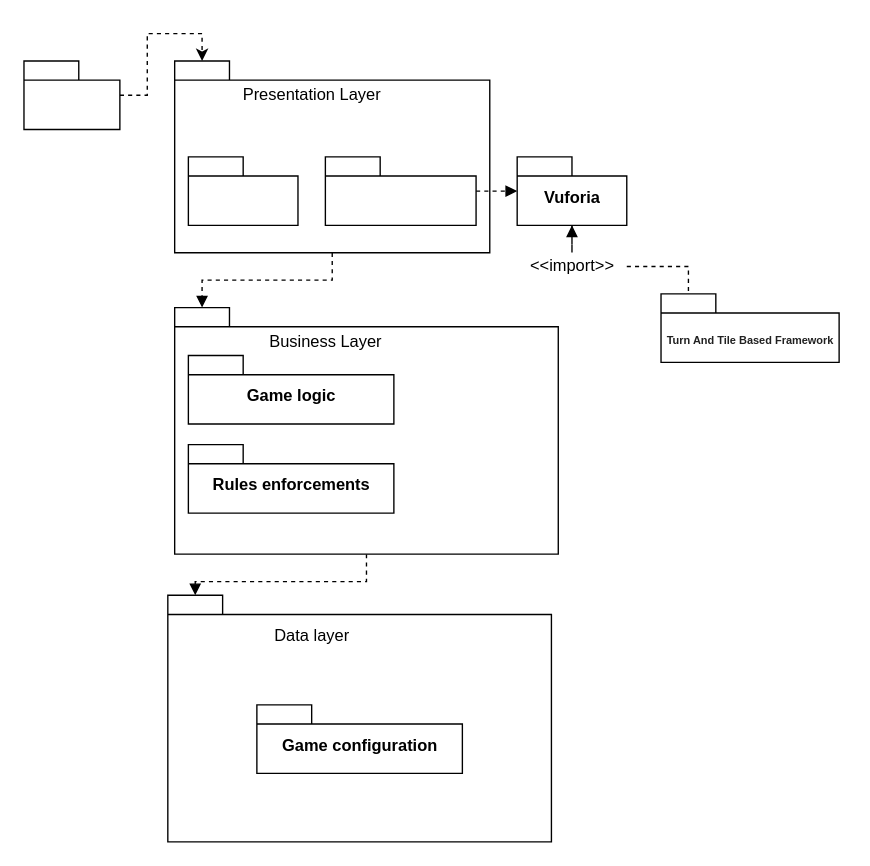
This 870x866 diagram has some shape labels left out. Here are the shapes that lost their labels. From the top down, the centre of each, then its label:
At pixel 71 94: "Users".
At pixel 242 190: "User Interface".
At pixel 400 190: "Presentation logic".
